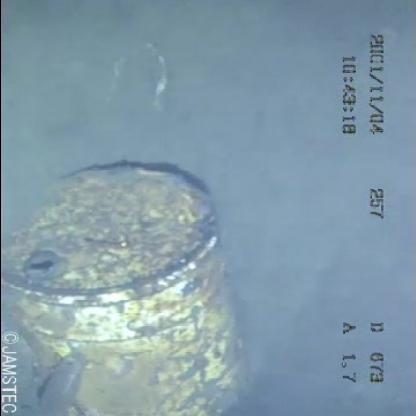Rác: (3, 145, 248, 415)
